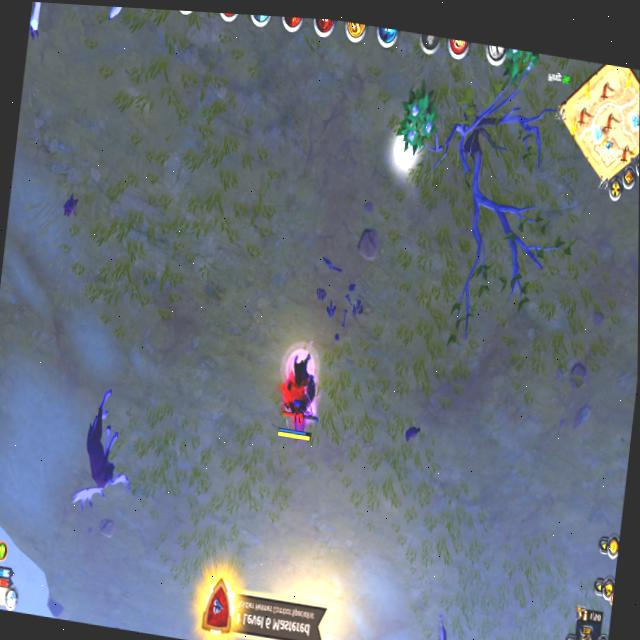hide: (392, 76, 445, 162), (498, 47, 543, 92)
mob: (27, 2, 73, 54)
ore: (68, 380, 140, 525), (281, 364, 320, 427), (98, 6, 166, 40)
red: (266, 329, 334, 458)
